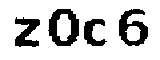0: (48, 6, 81, 50)
6: (116, 2, 151, 51)
c: (81, 18, 110, 50)
z: (13, 17, 41, 49)
